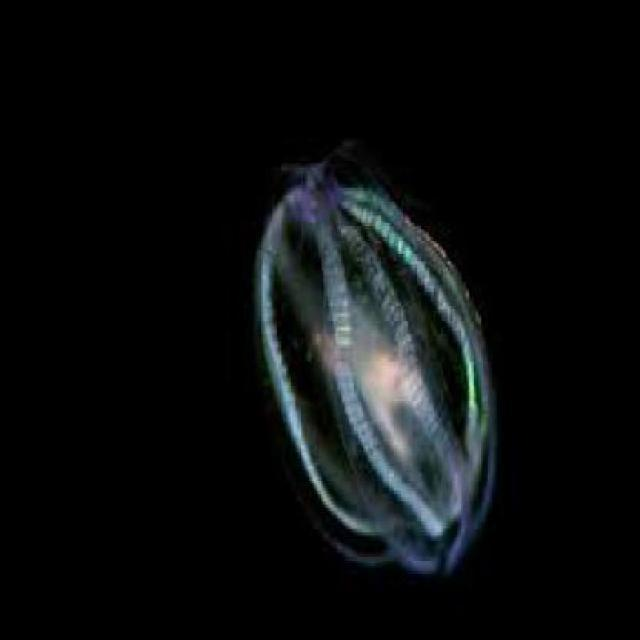Jellyfish: (243, 142, 500, 575)
